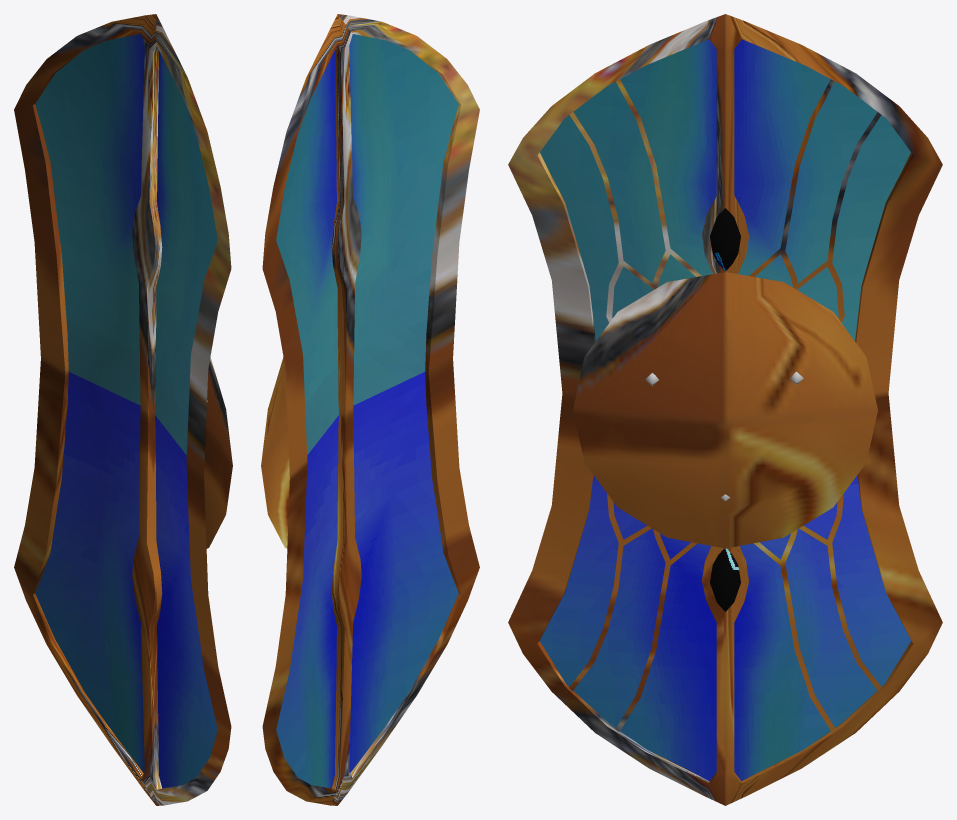
The model's file is shanyaozhidun001.FBX.
3 views of the same model, side by side, from view 1: azimuth 30°, elevation 25°; view 2: azimuth 150°, elevation 25°; view 3: azimuth 270°, elevation 25° (orthographic).
Parts seen in each view (by area): view 1: SMDImport; view 2: SMDImport; view 3: SMDImport.
Part boxes in pixels (bbox=[...]): SMDImport: bbox=[14, 14, 232, 805]; SMDImport: bbox=[261, 14, 479, 805]; SMDImport: bbox=[508, 14, 942, 805].
Size of the model in its own units: 9.36 by 112 by 55.63.
